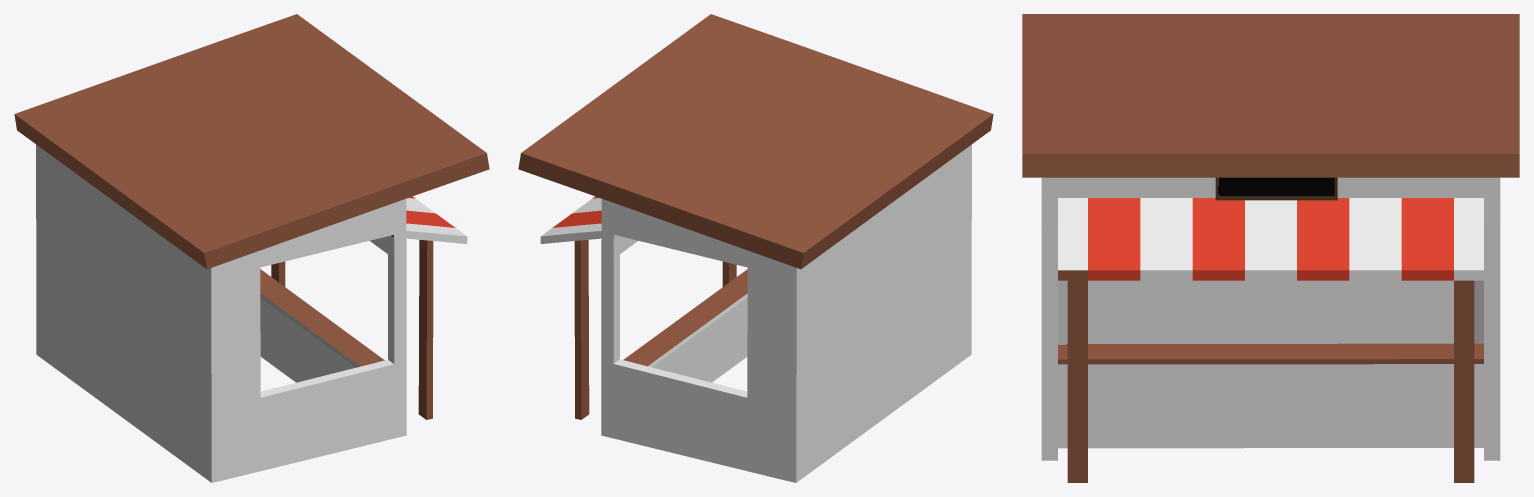
The model's file is CasetaMedianaPlaya.fbx.
3 renders of one model, left to right at view 1: azimuth 30°, elevation 25°; view 2: azimuth 150°, elevation 25°; view 3: azimuth 270°, elevation 25°, orthographic. The views are drawn at different scales.
Visible parts, largest first — view 1: Base.001; view 2: Base.001; view 3: Base.001, Letrero.004.
Boxes of the visible parts, x1,y1,x2,y2 form: Base.001: [14, 14, 489, 482]; Base.001: [518, 14, 993, 482]; Base.001: [1022, 14, 1519, 482]; Letrero.004: [1215, 177, 1337, 200].
Bounding box in the file's own units: 455 × 412 × 525.
